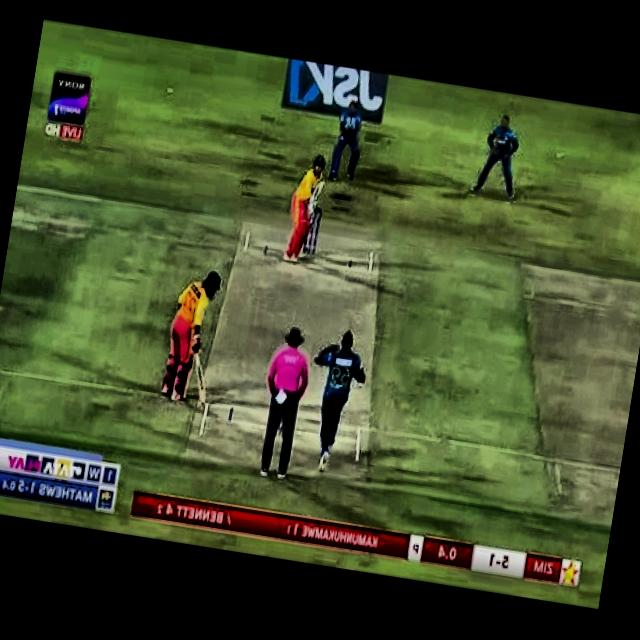Left-stump: (312, 213, 321, 256)
Middle-stump: (307, 212, 316, 254)
Right-stump: (302, 238, 307, 253)
